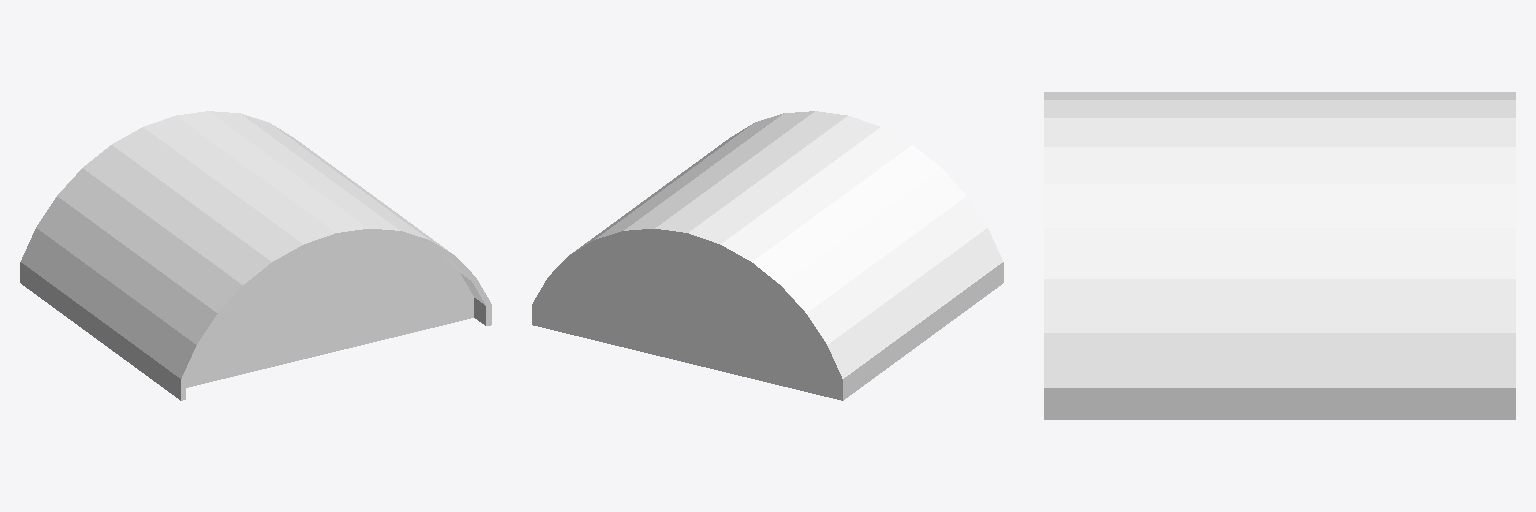
URDF robot description (cube.urdf):
<?xml version="1.0" ?>
<robot name="cube.urdf">
  <link concave="yes" name="baseLink">
    <inertial>
      <origin rpy="0 0 0" xyz="0 0 0"/>
       <mass value=".0"/>
       <inertia ixx="0" ixy="0" ixz="0" iyy="0" iyz="0" izz="0"/>
    </inertial>
    <visual>
      <origin rpy="1.5707963 0 0" xyz="0 0 0"/>
      <geometry>
				<mesh filename="./source/untitled.obj" scale="1 1 1"/>
      </geometry>
       <material name="white">
        <color rgba="1 1 1 1"/>
      </material>
    </visual>
    <collision concave="yes">
      <origin rpy="1.5707963 0 0" xyz="0 0 0"/>
     <geometry>
				<mesh filename="./source/untitled.obj" scale="1 1 1"/>
      </geometry>
    </collision>
  </link>
</robot>


--- Render facts (derived) ---
3 views of the same robot in one strip: view 1: azimuth 30°, elevation 25°; view 2: azimuth 150°, elevation 25°; view 3: azimuth 270°, elevation 25° (orthographic).
Model cube.urdf with 1 links and 0 joints (none), rooted at baseLink, posed all joints at 0.
Links seen in each view (by area): view 1: baseLink; view 2: baseLink; view 3: baseLink.
Boxes of the visible links, x1,y1,x2,y2 form: baseLink: (20,111,491,400); baseLink: (532,111,1003,400); baseLink: (1044,92,1515,419).
Bounding box of the posed robot: 720 × 645 × 289 m (x, y, z).
1 mesh visuals loaded from 1 distinct referenced files (1 OBJ).